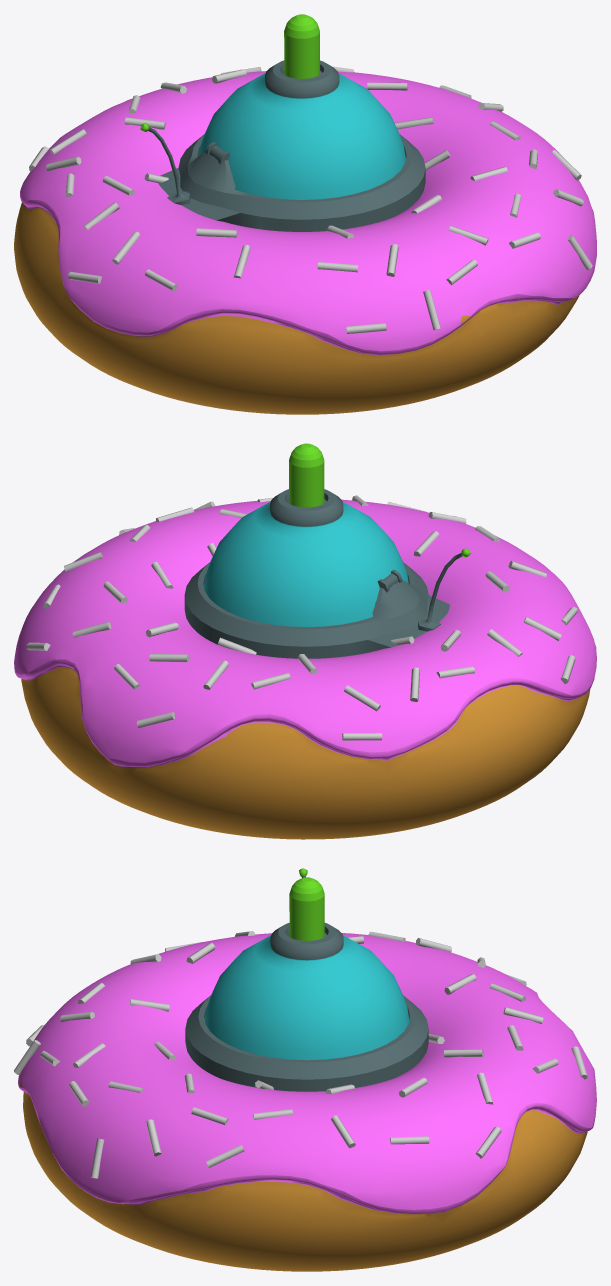
The model's file is donut.fbx.
3 views of the same model, one above another, from view 1: azimuth 30°, elevation 25°; view 2: azimuth 150°, elevation 25°; view 3: azimuth 270°, elevation 25° (orthographic).
Parts seen in each view (by area): view 1: Tore, Sphère, Cylindre; view 2: Tore, Sphère, Cylindre; view 3: Tore, Sphère, Cylindre.
Part boxes in pixels (x1,y1,x2,y2): Tore: (14, 71, 596, 414); Sphère: (199, 14, 405, 199); Cylindre: (140, 123, 425, 231); Tore: (14, 499, 596, 839); Sphère: (204, 443, 408, 627); Cylindre: (184, 548, 470, 658); Tore: (18, 933, 596, 1271); Sphère: (205, 877, 409, 1060); Cylindre: (185, 868, 428, 1091).
Size of the model in its own units: 548 by 322 by 561.
